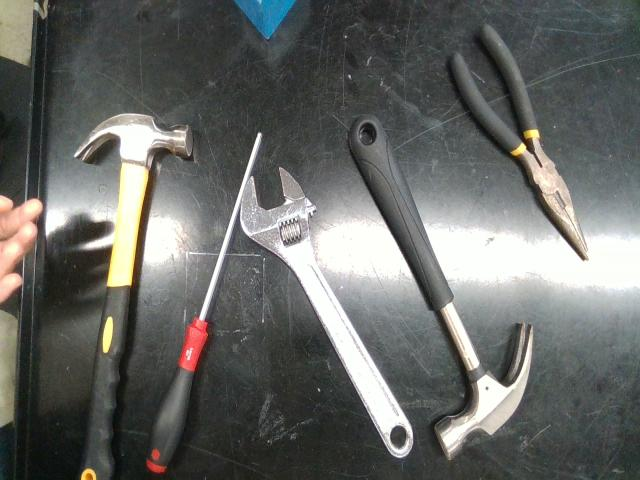Adjustable spanner: (240, 167, 414, 458)
Hammer: (349, 115, 532, 459), (75, 115, 192, 478)
Hand: (0, 195, 42, 301)
Needle-nose pliers: (450, 25, 589, 260)
Screwdriver: (146, 132, 262, 473)
